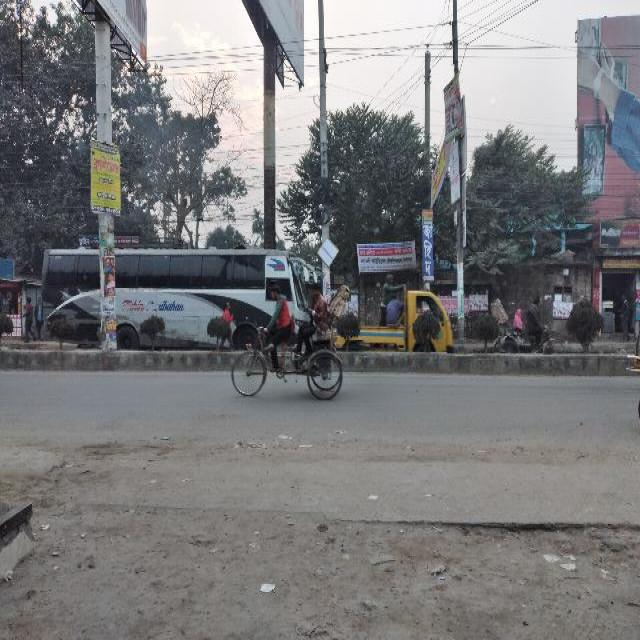vehicle: (35, 246, 311, 351), (231, 283, 346, 407), (335, 284, 458, 350), (487, 294, 563, 356)
